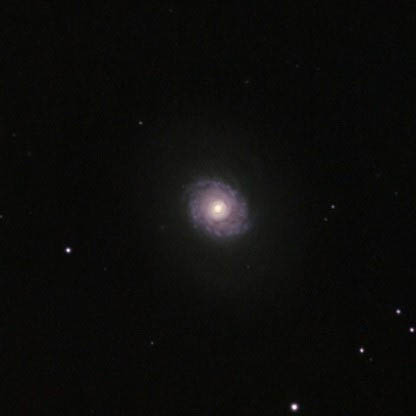Messier 94: (153, 137, 294, 298)
